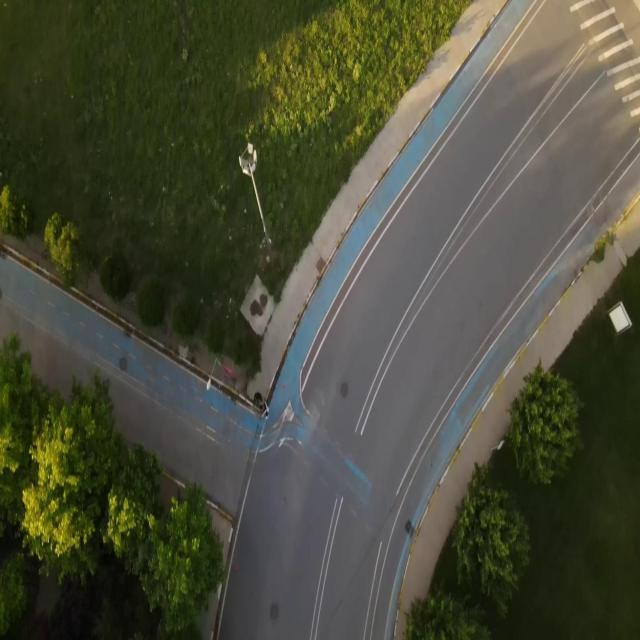p3rson: (259, 401, 269, 420)
